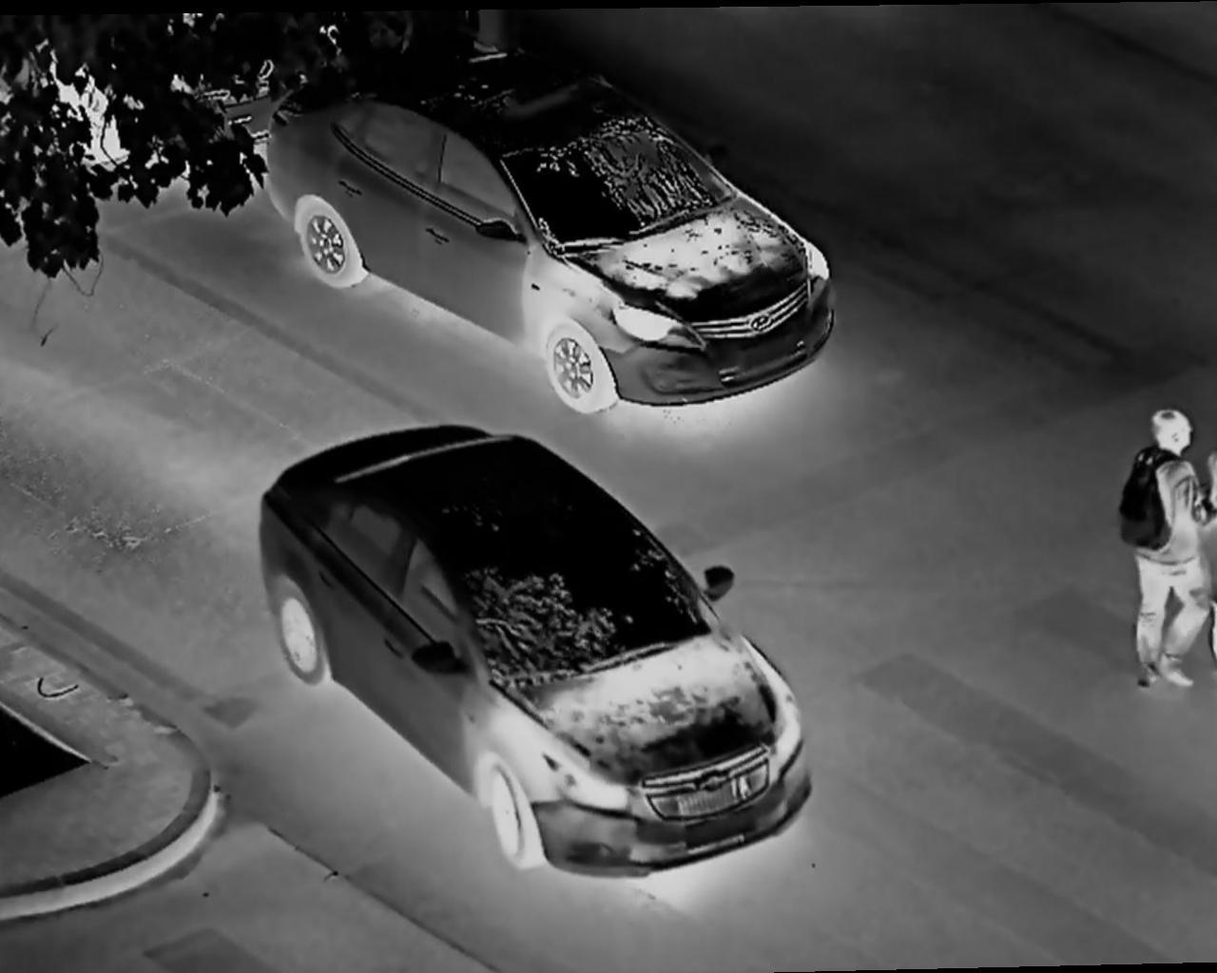person: (1114, 410, 1217, 695)
